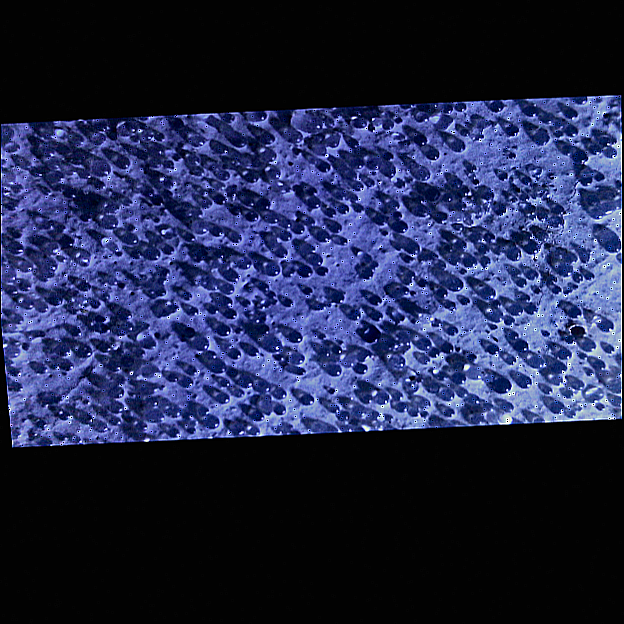GrassBeadSeg: (92, 178, 594, 433), (135, 131, 549, 431), (56, 225, 590, 442), (94, 181, 542, 418), (53, 137, 534, 356), (18, 196, 474, 423), (167, 208, 608, 438), (120, 154, 524, 404), (151, 197, 578, 420), (145, 180, 523, 423), (10, 174, 606, 325), (18, 211, 621, 359), (75, 142, 462, 358), (68, 178, 589, 335), (165, 231, 605, 403), (245, 178, 535, 434), (11, 260, 492, 414), (15, 287, 604, 411), (248, 199, 619, 384), (267, 214, 590, 419), (114, 192, 464, 381), (217, 171, 513, 394), (36, 239, 410, 413), (203, 256, 621, 409), (185, 209, 566, 376), (140, 238, 588, 378), (261, 150, 518, 390), (49, 296, 566, 414), (220, 141, 568, 315), (327, 195, 602, 412), (38, 288, 409, 446), (105, 168, 478, 325), (122, 199, 388, 415), (99, 216, 502, 355), (208, 214, 549, 376), (41, 243, 351, 416), (11, 189, 214, 439), (137, 246, 418, 426), (249, 169, 432, 436), (161, 248, 616, 354), (54, 231, 551, 327), (108, 275, 456, 412), (34, 248, 291, 430), (389, 176, 594, 401), (316, 175, 577, 350), (216, 171, 505, 323), (106, 308, 585, 399), (178, 152, 461, 301), (230, 139, 414, 346), (255, 215, 536, 350), (214, 204, 386, 422), (295, 134, 552, 279), (163, 191, 441, 324), (115, 176, 345, 336), (344, 171, 496, 412), (222, 266, 563, 371), (416, 208, 589, 406), (307, 152, 588, 267), (347, 159, 505, 358), (361, 217, 567, 369), (2, 132, 470, 197), (274, 216, 467, 361), (207, 307, 596, 378), (412, 206, 598, 352), (227, 171, 377, 348), (262, 268, 574, 351), (411, 206, 616, 332), (211, 312, 491, 404), (7, 184, 200, 316), (179, 288, 389, 405), (144, 338, 454, 416), (385, 165, 476, 422), (35, 300, 211, 430), (231, 137, 330, 356), (258, 308, 526, 383), (214, 332, 534, 389), (302, 291, 471, 394), (262, 353, 516, 421), (133, 348, 471, 399), (104, 258, 254, 372), (92, 392, 515, 432), (106, 234, 199, 414), (349, 149, 442, 318), (416, 302, 577, 398), (331, 258, 492, 354), (97, 224, 233, 336), (119, 341, 282, 433), (54, 213, 548, 243), (41, 260, 405, 299), (426, 192, 485, 426), (13, 223, 137, 331), (437, 238, 527, 384), (52, 352, 222, 429), (285, 300, 531, 352), (552, 206, 620, 390), (101, 323, 209, 434), (365, 159, 495, 250), (543, 256, 621, 407), (112, 345, 398, 385), (56, 188, 317, 231), (479, 192, 597, 281), (385, 201, 432, 408), (407, 272, 496, 380), (18, 272, 241, 314), (319, 307, 424, 389), (8, 241, 621, 255), (246, 116, 372, 182), (307, 205, 409, 280), (55, 122, 155, 197), (325, 364, 554, 395), (593, 139, 621, 390), (226, 110, 375, 154), (162, 246, 212, 372), (93, 136, 205, 188), (37, 316, 135, 373), (1, 144, 84, 210), (527, 172, 592, 254), (73, 373, 154, 437), (141, 189, 530, 202), (58, 150, 162, 198), (255, 377, 565, 393), (312, 117, 393, 173), (304, 394, 426, 431), (288, 351, 610, 365), (388, 349, 573, 372), (230, 368, 294, 434), (192, 135, 262, 195), (268, 136, 340, 194), (405, 243, 458, 312), (9, 347, 73, 404), (154, 191, 237, 234), (75, 248, 134, 308), (40, 214, 91, 282), (81, 218, 161, 261), (508, 264, 573, 315), (455, 102, 539, 140), (12, 255, 89, 294), (431, 248, 536, 275), (319, 294, 416, 323), (258, 197, 320, 242), (562, 96, 609, 155), (395, 292, 442, 351), (253, 271, 294, 334), (235, 375, 304, 412), (406, 114, 484, 146), (365, 153, 405, 215), (353, 296, 384, 375), (507, 104, 578, 138), (392, 179, 450, 220), (231, 192, 293, 227), (357, 317, 406, 361), (411, 387, 480, 416), (192, 237, 232, 286), (452, 216, 490, 264), (92, 278, 148, 310), (372, 104, 452, 126), (41, 161, 91, 195), (308, 191, 346, 233), (349, 182, 386, 225), (148, 384, 194, 418), (503, 249, 523, 326), (132, 130, 181, 161), (36, 305, 83, 337), (43, 395, 94, 424), (160, 258, 214, 284), (279, 225, 329, 253), (381, 221, 413, 264), (462, 198, 517, 221), (521, 249, 540, 315), (69, 282, 117, 308), (546, 250, 578, 285), (444, 278, 465, 330), (456, 176, 487, 210), (435, 246, 477, 271), (515, 274, 550, 303), (114, 280, 167, 297), (61, 411, 86, 443), (543, 362, 569, 388), (248, 299, 277, 322), (242, 287, 274, 307), (211, 227, 242, 243), (7, 327, 21, 357), (443, 195, 468, 206), (2, 270, 19, 283)
